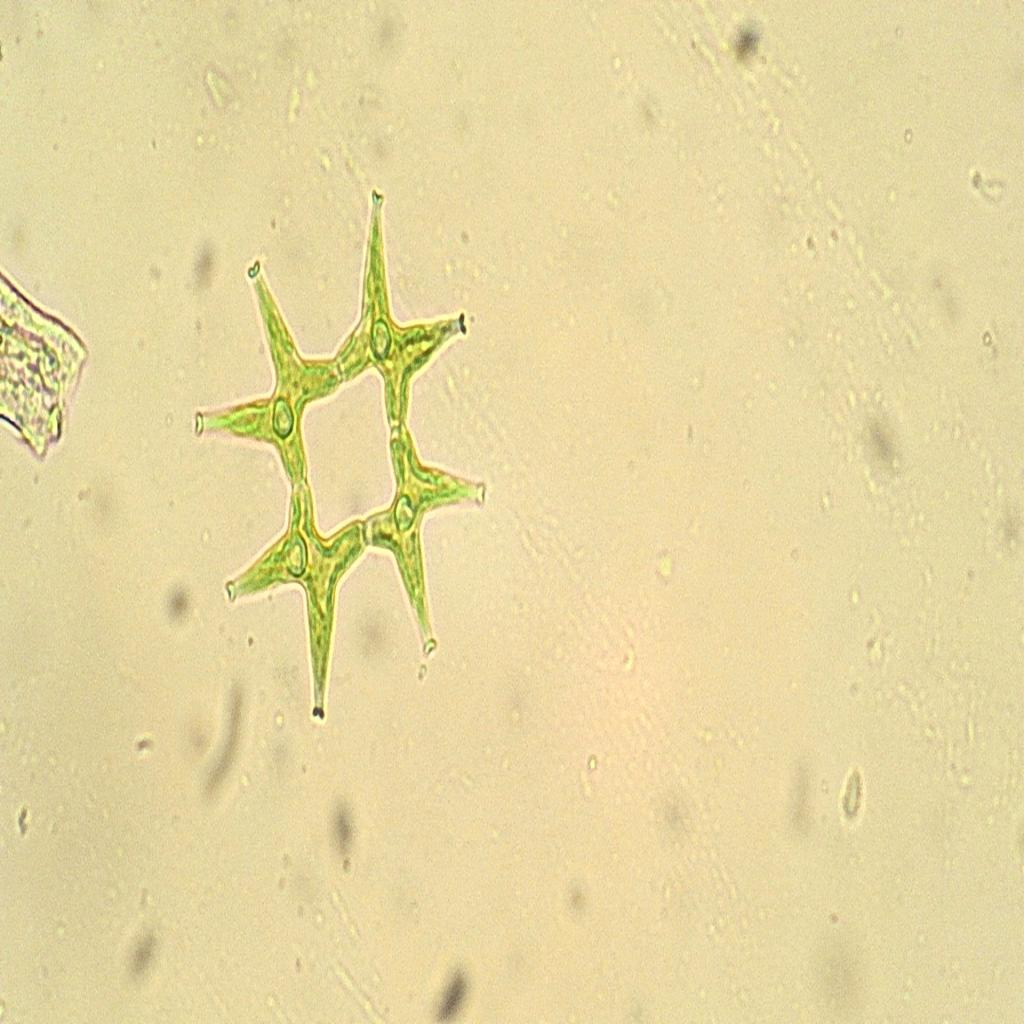Pediastrum_75O: (182, 159, 507, 739)
